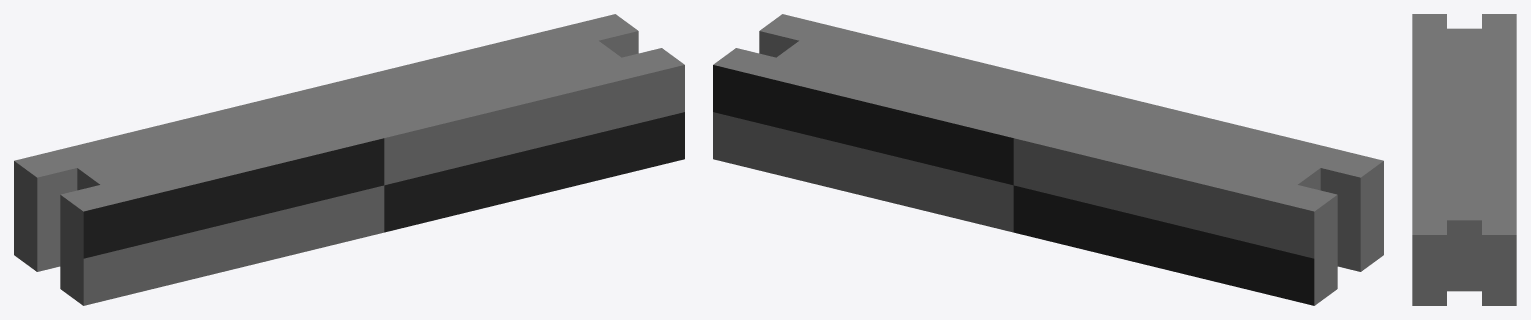
The model's file is Module_BSSvc.dae.
3 views of the same model, side by side, from view 1: azimuth 30°, elevation 25°; view 2: azimuth 150°, elevation 25°; view 3: azimuth 270°, elevation 25° (orthographic). The views are drawn at different scales.
Visible parts, largest first — view 1: SketchUp (×5); view 2: SketchUp (×5); view 3: SketchUp.
Boxes of the visible parts, bbox=[...] form: SketchUp (×5): bbox=[14, 14, 684, 305]; SketchUp (×5): bbox=[713, 14, 1383, 305]; SketchUp: bbox=[1412, 14, 1516, 305].
Bounding box in the file's own units: 39.37 × 7.87 × 5.91.
Materials: 3 (3 with a texture image).
